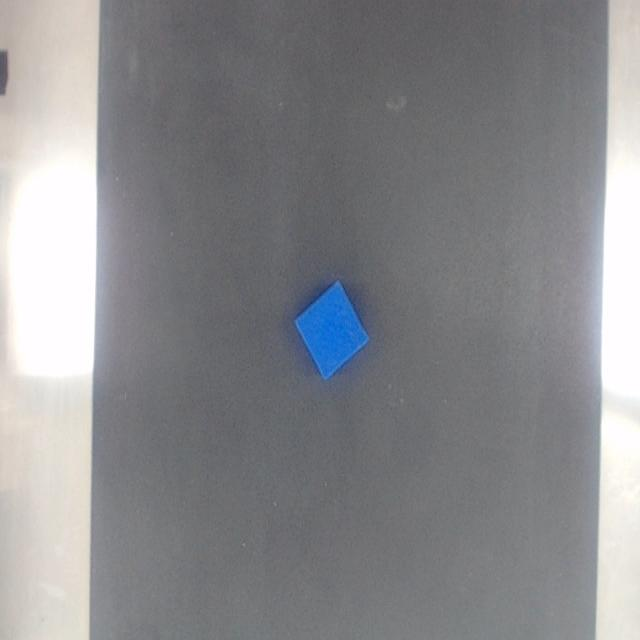Azul: (295, 281, 368, 380)
